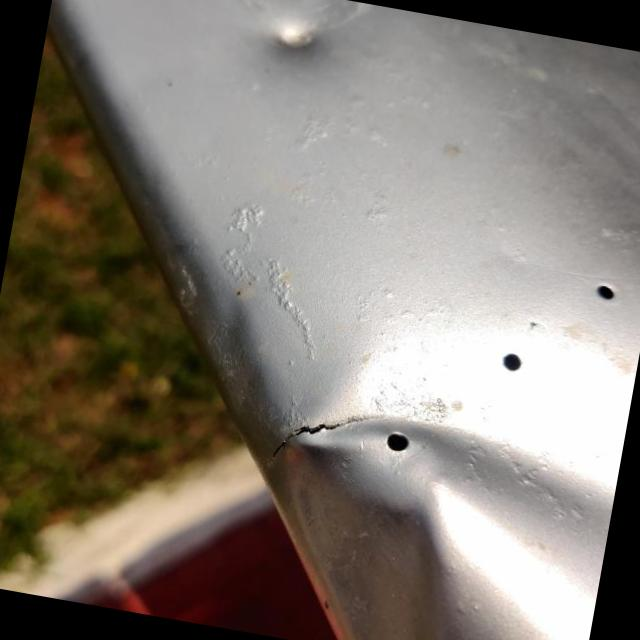Crack: (271, 424, 344, 464)
Dent: (267, 326, 635, 640), (243, 0, 372, 47)
